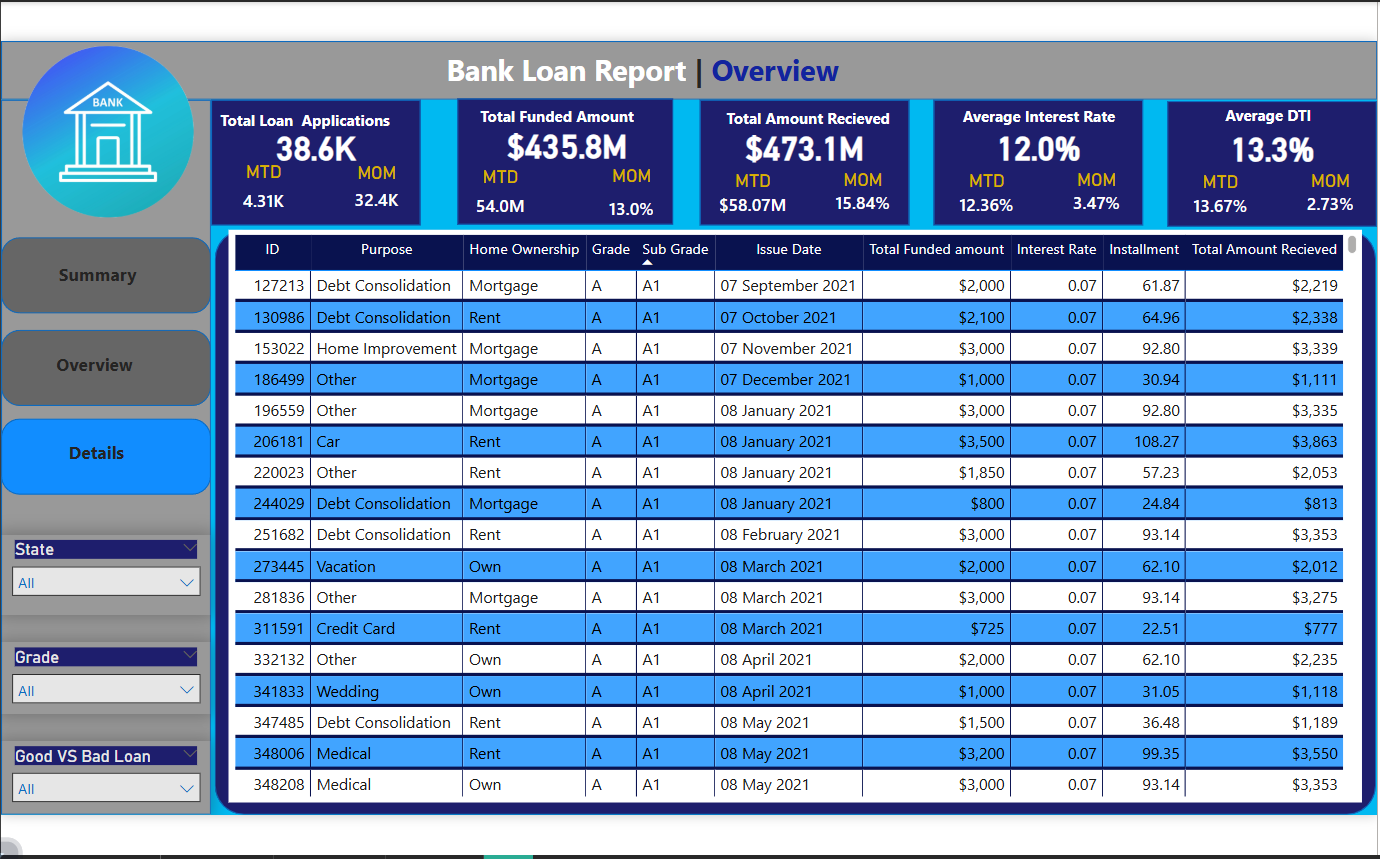

Layout of this report page (visuals, bound fields, positions):
{"tool":"powerbi","page":{"name":"Overview","canvas":[1280,720],"ordinal":1},"visuals":[{"type":"shape","box":[0,54.7,195.3,665.1],"z":0},{"type":"shape","box":[195.3,54.7,195,117],"z":0,"group":"g1"},{"type":"shape","box":[650,54.7,195,117],"z":0,"group":"g2"},{"type":"shape","box":[867.4,54.7,195,117],"z":0,"group":"g3"},{"type":"shape","box":[1084.9,55.8,195,117],"z":0,"group":"g4"},{"type":"card","fields":{"Values":["banking.Total Loan Applications"]},"box":[220.9,73.3,144.2,50],"z":1000,"group":"g1"},{"type":"card","fields":{"Values":["banking.Total Amount Recieved"]},"box":[675.6,73.3,144.2,50],"z":1000,"group":"g2"},{"type":"card","fields":{"Values":["banking.Average Int rate"]},"box":[893,73.3,144.2,50],"z":1000,"group":"g3"},{"type":"card","fields":{"Values":["banking.Average DTI"]},"box":[1110.5,74.4,144.2,50],"z":1000,"group":"g4"},{"type":"shape","box":[195,181.2,405,230],"z":1000},{"type":"textbox","box":[805,195,145,33.8],"z":1000,"group":"g5"},{"type":"shape","box":[0,0,1280.2,54.7],"z":2000},{"type":"textbox","box":[1133.4,54.7,114,34.9],"z":2000,"group":"g4"},{"type":"textbox","box":[889.1,55.3,177.9,40.7],"z":2000,"group":"g3"},{"type":"textbox","box":[669.7,56.9,177.9,40.7],"z":2000,"group":"g2"},{"type":"textbox","box":[198.6,58.9,191.2,37.5],"z":2000,"group":"g1"},{"type":"shape","box":[424.4,53.5,201.2,117.4],"z":3000},{"type":"card","title":"MTD","fields":{"Values":["banking.MTD Loan Applications"]},"box":[210,112.1,67.4,58.1],"z":3000,"group":"g1"},{"type":"card","title":"MTD","fields":{"Values":["banking.MTD Amount Recieved"]},"box":[660.4,119.8,77.9,50],"z":3000,"group":"g2"},{"type":"card","title":"MTD","fields":{"Values":["banking.MTD Int Rate"]},"box":[877.8,119.8,77.9,50],"z":3000,"group":"g3"},{"type":"card","title":"MTD","fields":{"Values":["banking.MTD DTI"]},"box":[1095.3,120.9,77.9,50],"z":3000,"group":"g4"},{"type":"card","fields":{"Values":["banking.Total funded amount"]},"box":[440.7,64,172.1,65.1],"z":4000},{"type":"card","title":"MOM","fields":{"Values":["banking.MOM Amount Recieved"]},"box":[759.2,118.5,84.9,48.8],"z":4000,"group":"g2"},{"type":"card","title":"MOM","fields":{"Values":["banking.MOM Int Rate"]},"box":[976.6,118.5,84.9,48.8],"z":4000,"group":"g3"},{"type":"card","title":"MOM","fields":{"Values":["banking.MOM DTI"]},"box":[1194.1,119.6,84.9,48.8],"z":4000,"group":"g4"},{"type":"textbox","box":[409.3,3.5,439.5,50],"z":5000},{"type":"textbox","box":[440.7,55.8,170.9,36],"z":6000},{"type":"group","id":"g1","title":"Group 1","box":[195.3,54.7,195,117],"z":7000},{"type":"card","title":"MTD","fields":{"Values":["banking.MTD Funded Amount"]},"box":[424.4,116.3,80.2,59.3],"z":8000},{"type":"card","title":"MOM","fields":{"Values":["banking.MOM Funded Amount"]},"box":[547.7,115.1,77.9,67.4],"z":9000},{"type":"card","title":"MOM","fields":{"Values":["banking.MOM Applications"]},"box":[317.4,112.8,64,54.7],"z":10000},{"type":"group","id":"g2","title":"Group 1","box":[650,54.7,197.7,117.4],"z":11000},{"type":"group","id":"g3","title":"Group 1","box":[867.4,54.7,200,117.4],"z":12000},{"type":"group","id":"g4","title":"Group 1","box":[1084.9,54.7,195.3,118.6],"z":13000},{"type":"group","id":"g5","title":"Group 2","box":[805,195,145,33.8],"z":14000},{"type":"textbox","box":[220,471.2,130,37.5],"z":15000},{"type":"slicer","fields":{"Values":["banking.address_state"]},"box":[0,489.5,195.3,74.4],"z":16000},{"type":"slicer","fields":{"Values":["banking.grade"]},"box":[2.3,573.3,195.3,67.4],"z":17000},{"type":"slicer","fields":{"Values":["banking.Good vs bad loan"]},"box":[0,650,195.3,68.6],"z":18000},{"type":"areaChart","fields":{"Y":["banking.Total Loan Applications"],"Category":["Date.month"]},"box":[210,190,375,211.2],"z":19000},{"type":"slicer","fields":{"Values":["Parameter.Parameter"]},"box":[0,416.3,195.3,73.3],"z":20000},{"type":"shape","box":[612.5,181.2,360,230],"z":21000},{"type":"map","fields":{"Size":["banking.Total Loan Applications"],"Category":["banking.address_state"]},"box":[627.5,190,328.8,211.2],"z":22000},{"type":"shape","box":[987.2,182.6,293,229.1],"z":23000},{"type":"shape","box":[194.2,438.4,405.8,230.2],"z":24000},{"type":"shape","box":[620.9,438.4,360.5,230.2],"z":25000},{"type":"donutChart","fields":{"Y":["banking.Total Loan Applications"],"Category":["banking.term"]},"box":[993,186,281.4,215.1],"z":26000},{"type":"barChart","fields":{"Y":["banking.Total Loan Applications"],"Category":["banking.emp_length"]},"box":[210.5,445.4,374.4,216.3],"z":27000},{"type":"barChart","fields":{"Y":["banking.Total Loan Applications"],"Category":["banking.purpose"]},"box":[626.7,439.5,354.7,229.1],"z":28000},{"type":"shape","box":[987.2,439.5,293,229.1],"z":29000},{"type":"treemap","fields":{"Values":["banking.Total Loan Applications"],"Group":["banking.home_ownership"]},"box":[990.7,445.4,286,216.3],"z":30000},{"type":"shape","box":[0,168.6,195.3,70.9],"z":31000},{"type":"shape","box":[0,330.2,195.3,70.9],"z":32000},{"type":"shape","box":[0,250,195.3,70.9],"z":33000},{"type":"image","box":[0,0,198.8,168.6],"z":34000},{"type":"textbox","box":[48.8,182.6,97.7,38.4],"z":35000},{"type":"textbox","box":[40.7,266.3,105.8,38.4],"z":36000},{"type":"textbox","box":[48.8,346.5,120.9,40.7],"z":37000},{"type":"shape","box":[15.1,167.4,154.7,72.1],"z":38000},{"type":"shape","box":[15.1,330.2,162.8,70.9],"z":39000}]}

Visuals, with their boxes on the page's 1280x720 design canvas (x1, y1, x2, y2). These are canvas units, not pixel positions in the 1380x859 screenshot, which may show the page scaled, cropped or inside an application window:
shape: (left=0, top=55, right=195, bottom=720)
shape: (left=195, top=55, right=390, bottom=172)
shape: (left=650, top=55, right=845, bottom=172)
shape: (left=867, top=55, right=1062, bottom=172)
shape: (left=1085, top=56, right=1280, bottom=173)
card - banking.Total Loan Applications: (left=221, top=73, right=365, bottom=123)
card - banking.Total Amount Recieved: (left=676, top=73, right=820, bottom=123)
card - banking.Average Int rate: (left=893, top=73, right=1037, bottom=123)
card - banking.Average DTI: (left=1110, top=74, right=1255, bottom=124)
shape: (left=195, top=181, right=600, bottom=411)
textbox: (left=805, top=195, right=950, bottom=229)
shape: (left=0, top=0, right=1280, bottom=55)
textbox: (left=1133, top=55, right=1247, bottom=90)
textbox: (left=889, top=55, right=1067, bottom=96)
textbox: (left=670, top=57, right=848, bottom=98)
textbox: (left=199, top=59, right=390, bottom=96)
shape: (left=424, top=54, right=626, bottom=171)
"MTD" card: (left=210, top=112, right=277, bottom=170)
"MTD" card: (left=660, top=120, right=738, bottom=170)
"MTD" card: (left=878, top=120, right=956, bottom=170)
"MTD" card: (left=1095, top=121, right=1173, bottom=171)
card - banking.Total funded amount: (left=441, top=64, right=613, bottom=129)
"MOM" card: (left=759, top=118, right=844, bottom=167)
"MOM" card: (left=977, top=118, right=1062, bottom=167)
"MOM" card: (left=1194, top=120, right=1279, bottom=168)
textbox: (left=409, top=4, right=849, bottom=54)
textbox: (left=441, top=56, right=612, bottom=92)
"Group 1" group: (left=195, top=55, right=390, bottom=172)
"MTD" card: (left=424, top=116, right=505, bottom=176)
"MOM" card: (left=548, top=115, right=626, bottom=182)
"MOM" card: (left=317, top=113, right=381, bottom=168)
"Group 1" group: (left=650, top=55, right=848, bottom=172)
"Group 1" group: (left=867, top=55, right=1067, bottom=172)
"Group 1" group: (left=1085, top=55, right=1280, bottom=173)
"Group 2" group: (left=805, top=195, right=950, bottom=229)
textbox: (left=220, top=471, right=350, bottom=509)
slicer - banking.address_state: (left=0, top=490, right=195, bottom=564)
slicer - banking.grade: (left=2, top=573, right=198, bottom=641)
slicer - banking.Good vs bad loan: (left=0, top=650, right=195, bottom=719)
areaChart - banking.Total Loan Applications x Date.month: (left=210, top=190, right=585, bottom=401)
slicer - Parameter.Parameter: (left=0, top=416, right=195, bottom=490)
shape: (left=612, top=181, right=972, bottom=411)
map - banking.Total Loan Applications x banking.address_state: (left=628, top=190, right=956, bottom=401)
shape: (left=987, top=183, right=1280, bottom=412)
shape: (left=194, top=438, right=600, bottom=669)
shape: (left=621, top=438, right=981, bottom=669)
donutChart - banking.Total Loan Applications x banking.term: (left=993, top=186, right=1274, bottom=401)
barChart - banking.Total Loan Applications x banking.emp_length: (left=210, top=445, right=585, bottom=662)
barChart - banking.Total Loan Applications x banking.purpose: (left=627, top=440, right=981, bottom=669)
shape: (left=987, top=440, right=1280, bottom=669)
treemap - banking.Total Loan Applications x banking.home_ownership: (left=991, top=445, right=1277, bottom=662)
shape: (left=0, top=169, right=195, bottom=240)
shape: (left=0, top=330, right=195, bottom=401)
shape: (left=0, top=250, right=195, bottom=321)
image: (left=0, top=0, right=199, bottom=169)
textbox: (left=49, top=183, right=146, bottom=221)
textbox: (left=41, top=266, right=146, bottom=305)
textbox: (left=49, top=346, right=170, bottom=387)
shape: (left=15, top=167, right=170, bottom=240)
shape: (left=15, top=330, right=178, bottom=401)
